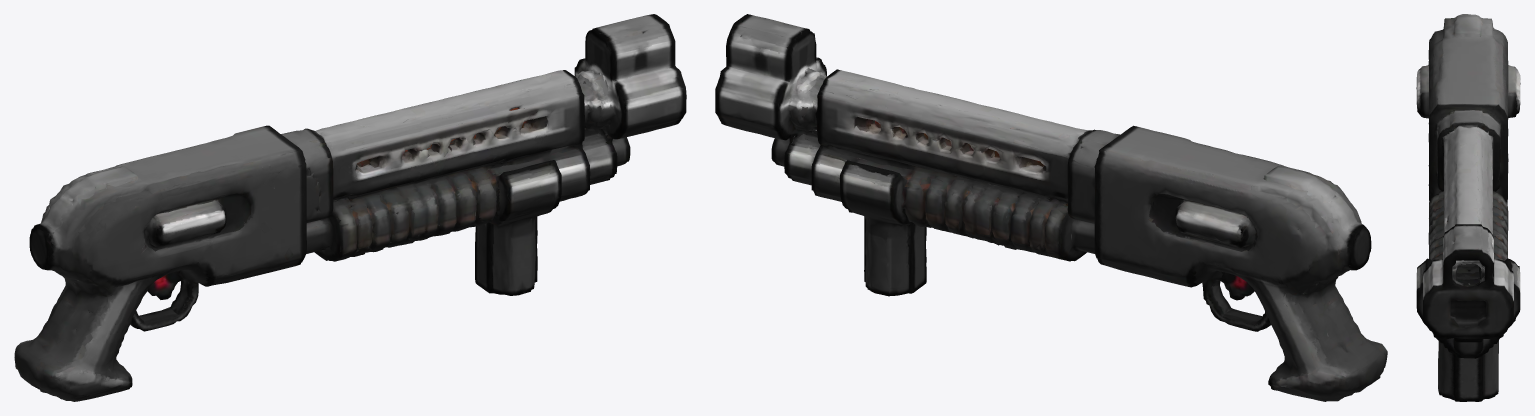
The model's file is SHOTA0.obj.
3 renders of one model, left to right at view 1: azimuth 30°, elevation 25°; view 2: azimuth 150°, elevation 25°; view 3: azimuth 270°, elevation 25°, orthographic. The views are drawn at different scales.
Size of the model in its own units: 1 by 0.342 by 0.1536.
Materials: 1 (1 with a texture image).
